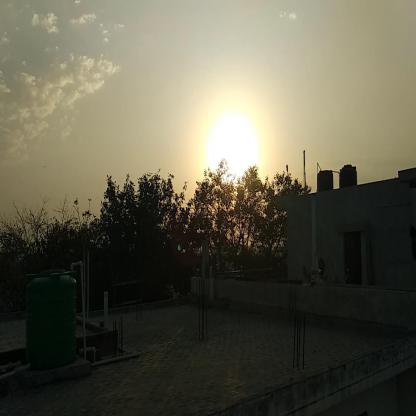other: (195, 100, 263, 212)
